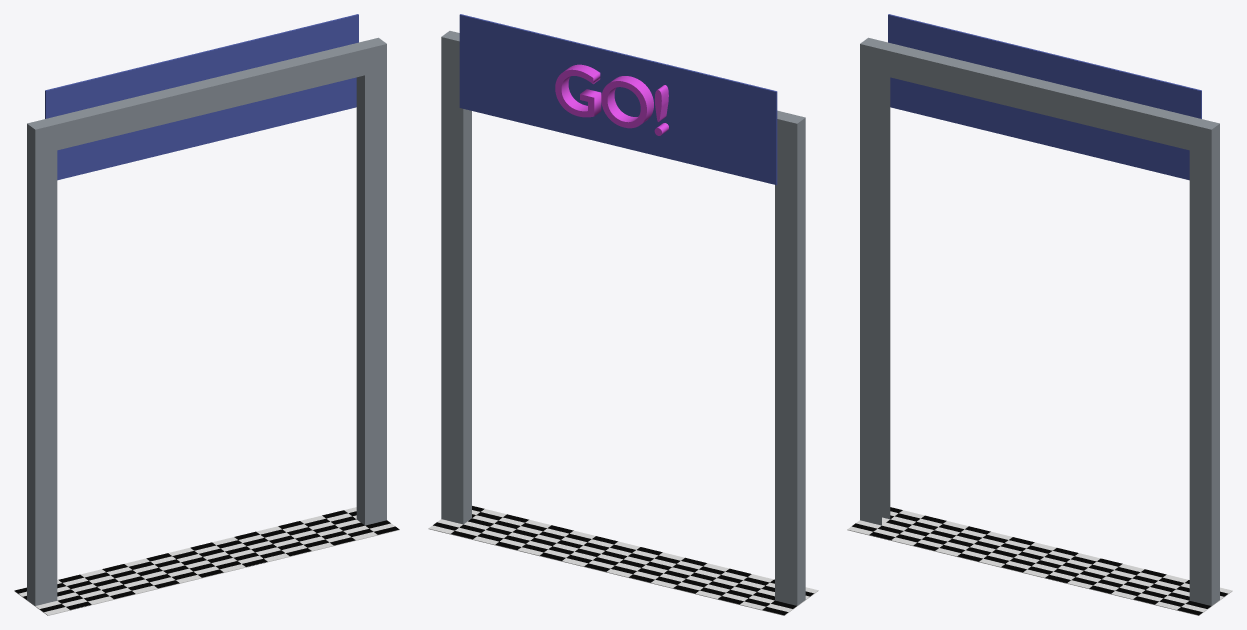
The model's file is StartingLine_Beta.fbx.
The picture shows the model from 3 angles, left to right: view 1: azimuth 30°, elevation 25°; view 2: azimuth 150°, elevation 25°; view 3: azimuth 330°, elevation 25°; orthographic projection.
Parts seen in each view (by area): view 1: Cube; view 2: Cube, GO!; view 3: Cube.
Part boxes in pixels (<box>): Cube: <box>14,14,399,615</box>; Cube: <box>428,14,818,615</box>; GO!: <box>555,64,668,135</box>; Cube: <box>847,14,1232,615</box>.
Size of the model in its own units: 1200 by 1645 by 200.
